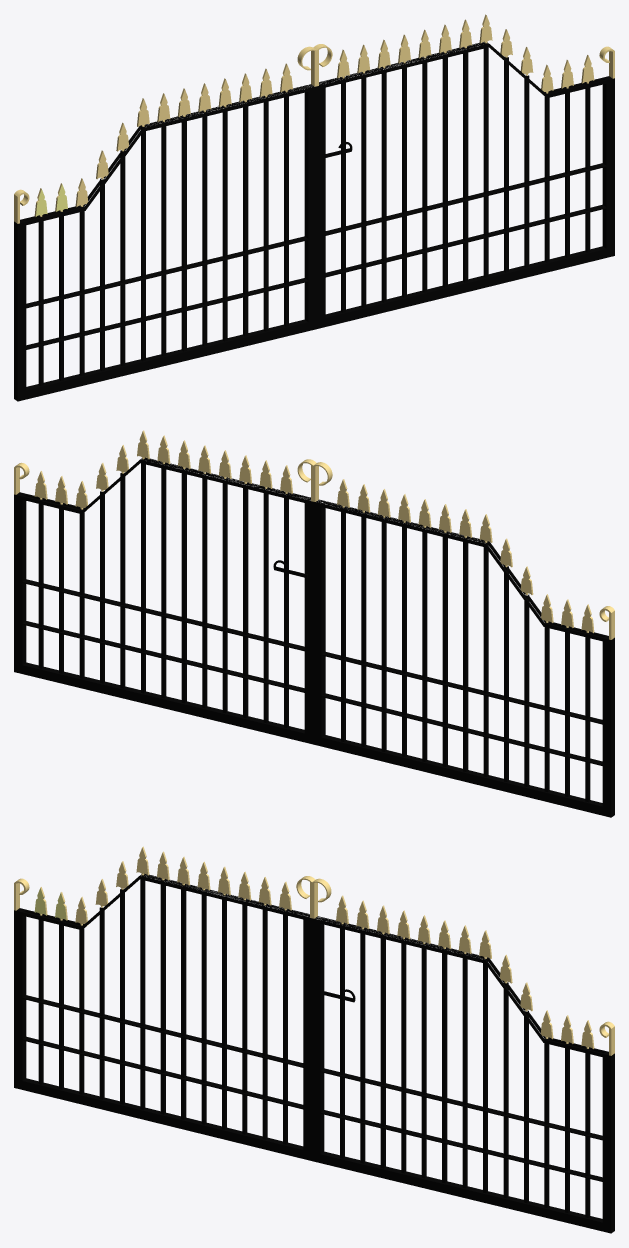
Rendered from IronGate.dae.
3 views of the same model, one above another, from view 1: azimuth 30°, elevation 25°; view 2: azimuth 150°, elevation 25°; view 3: azimuth 330°, elevation 25° (orthographic).
Visible parts, largest first — view 1: Wrought-iron_gate (×30); view 2: Wrought-iron_gate (×30); view 3: Wrought-iron_gate (×30).
Part boxes in pixels (bbox=[...]): Wrought-iron_gate (×30): bbox=[14, 41, 614, 401]; Wrought-iron_gate (×30): bbox=[14, 457, 614, 817]; Wrought-iron_gate (×30): bbox=[14, 873, 614, 1233].
Size of the model in its own units: 139 by 1.75 by 62.45.
